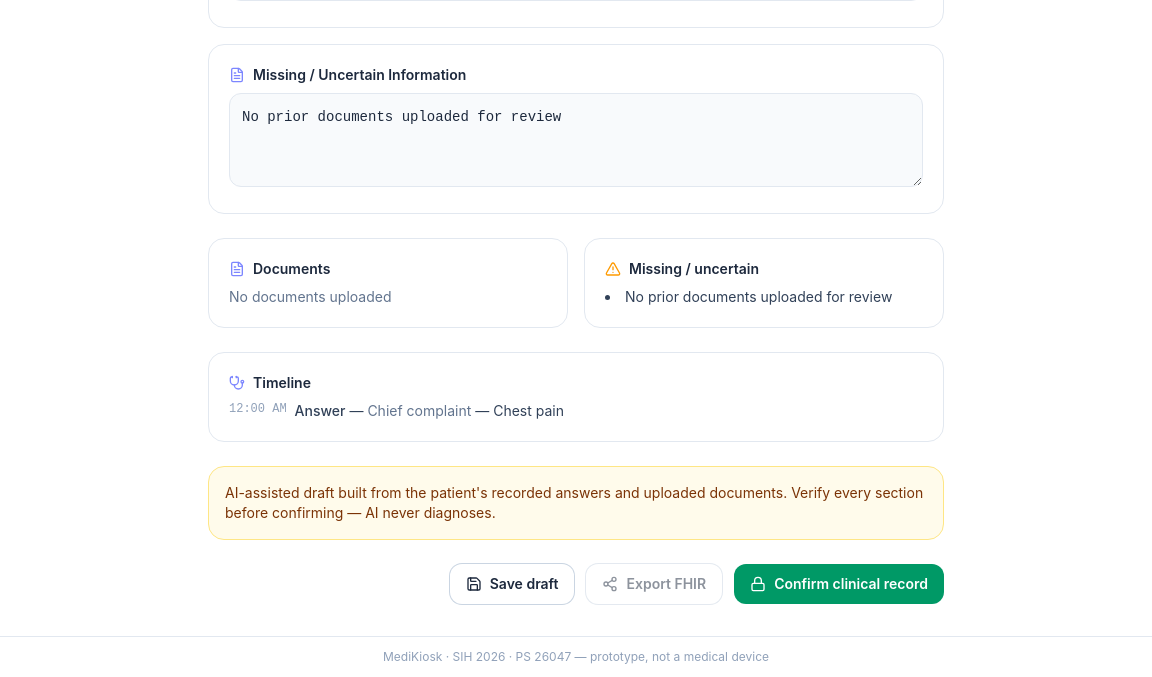
Scenario: physician case review › confirms the record after the two-step confirmation
(page scrolled)
Click the button "Confirm clinical record".
click(839, 584)  # box [734,564,944,604]
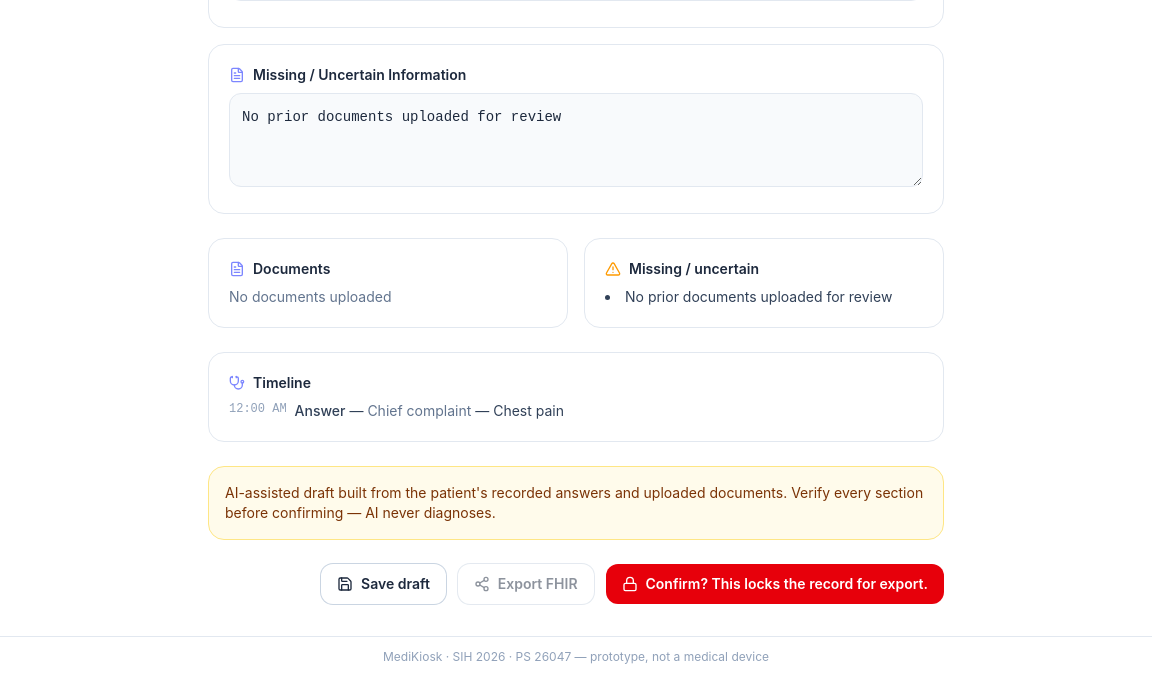
# Second click on the armed button performs the POST.
Click the button "Confirm? This locks the record for export.".
click(775, 584)  # box [606,564,944,604]
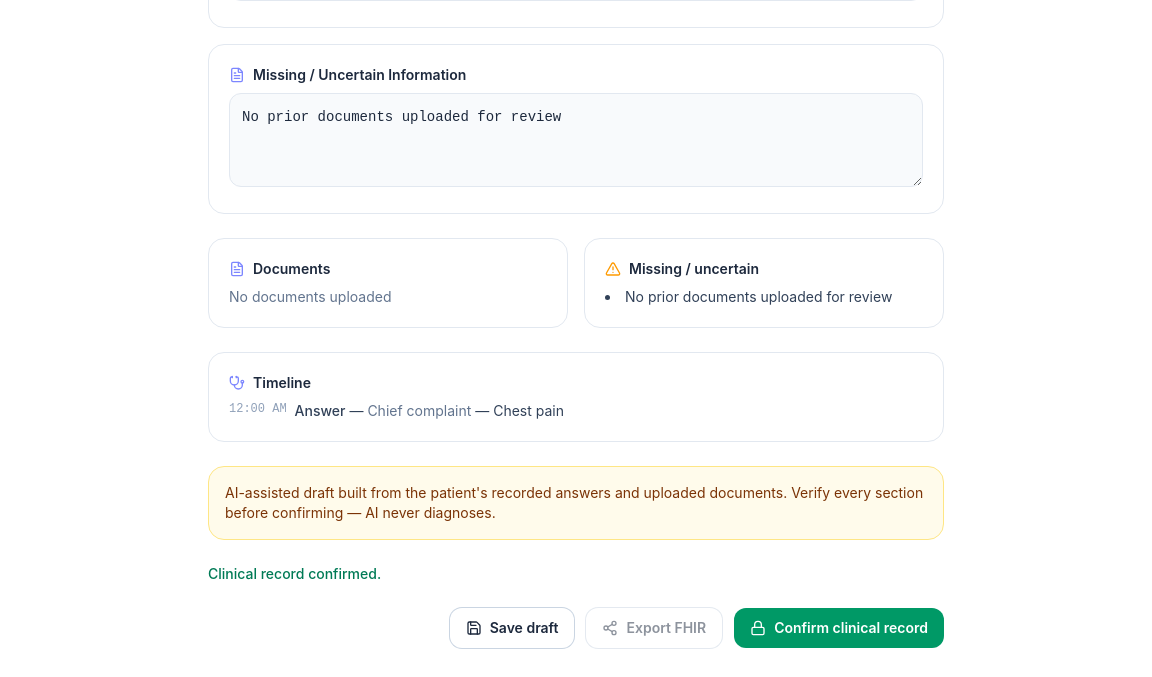
Check: the text "Clinical record confirmed." is shown, box [208,565,381,582]
